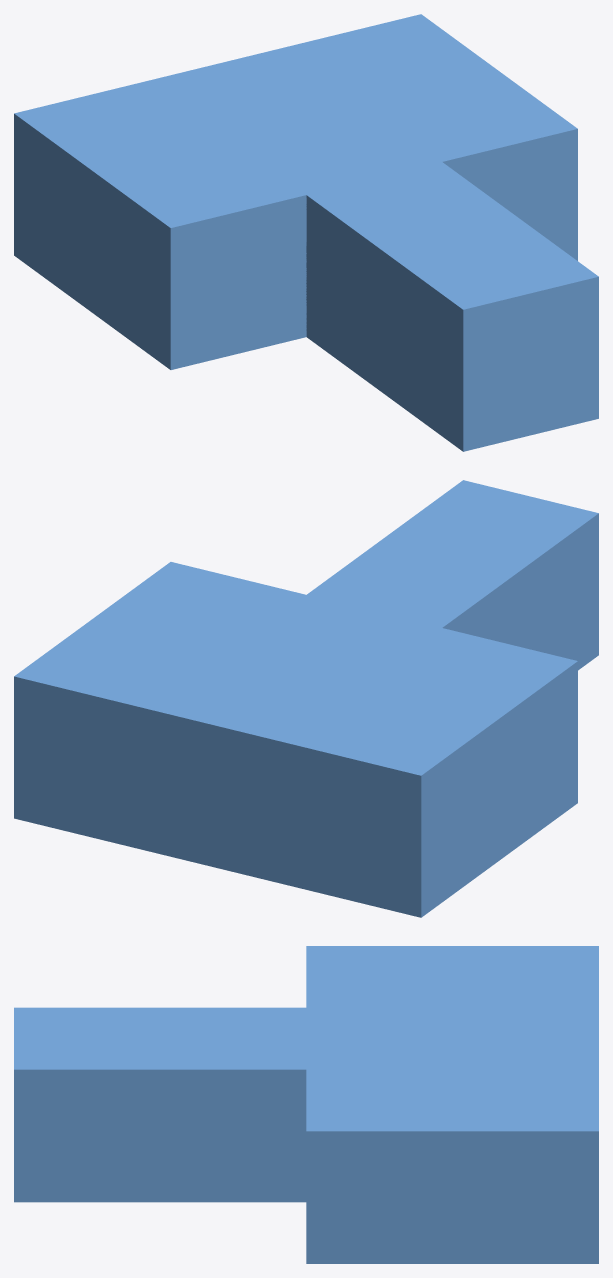
Rendered from puzzle_shape_T.glb.
3 renders of one model, top to bottom at view 1: azimuth 30°, elevation 25°; view 2: azimuth 150°, elevation 25°; view 3: azimuth 270°, elevation 25°, orthographic. The views are drawn at different scales.
Visible parts, largest first — view 1: puzzle_shape_T; view 2: puzzle_shape_T; view 3: puzzle_shape_T.
Boxes of the visible parts, x1,y1,x2,y2 form: puzzle_shape_T: [14, 14, 598, 451]; puzzle_shape_T: [14, 480, 598, 917]; puzzle_shape_T: [14, 946, 598, 1263].
Size of the model in its own units: 1.2 by 0.4 by 1.6.
